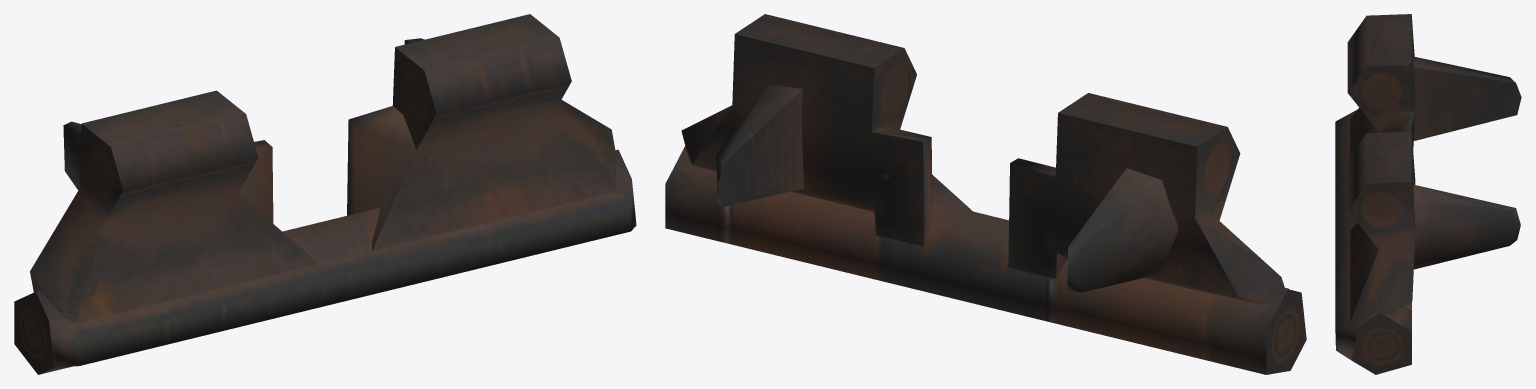
Rendered from track1_segment.glb.
3 renders of one model, left to right at view 1: azimuth 30°, elevation 25°; view 2: azimuth 150°, elevation 25°; view 3: azimuth 270°, elevation 25°, orthographic. The views are drawn at different scales.
Parts seen in each view (by area): view 1: set_0_group_0; view 2: set_0_group_0; view 3: set_0_group_0.
Boxes of the visible parts, x1,y1,x2,y2 form: set_0_group_0: (14, 14, 636, 374); set_0_group_0: (665, 14, 1306, 374); set_0_group_0: (1335, 14, 1521, 374).
Bounding box in the file's own units: 0.2712 × 0.097 × 0.0977.
1 material, 1 textured.
